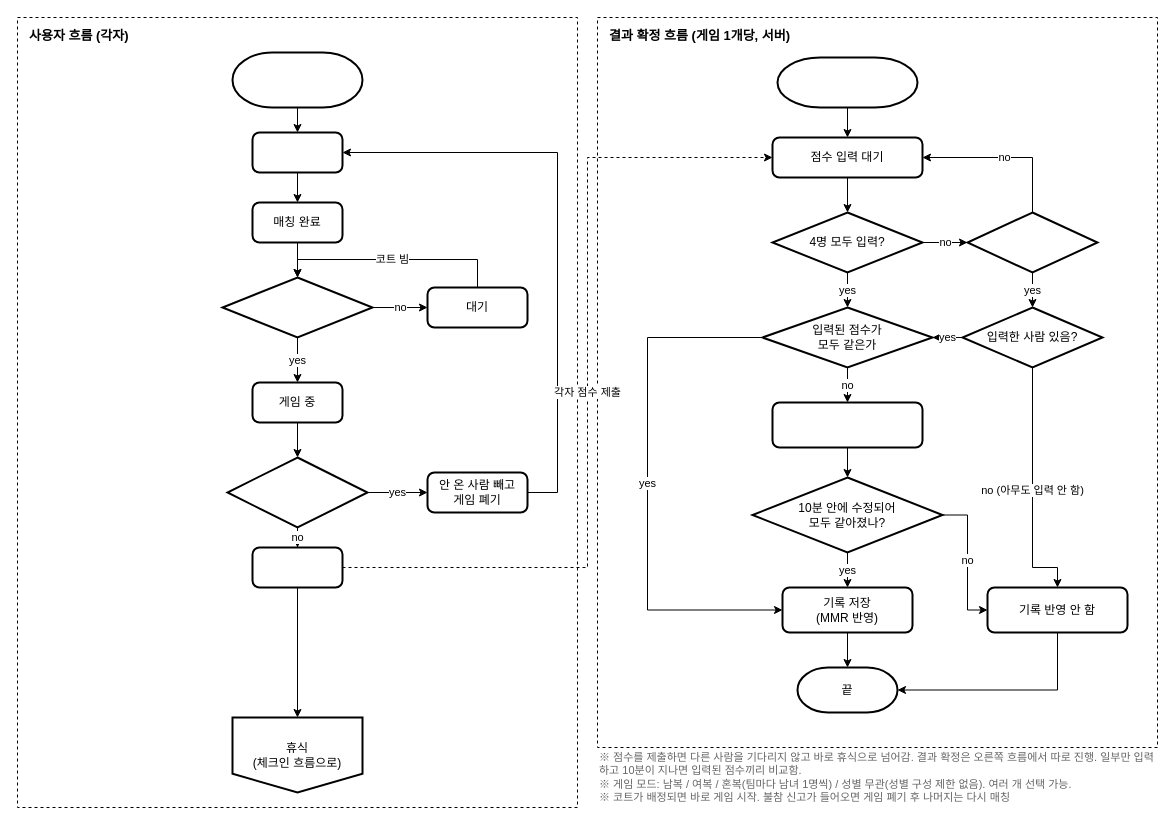
The diagram is 1175 pixels wide and 825 high, and some of its shapes have lost their labels. The shapes that lost their labels are listed below. From the top down, each one's centre as x and y in pixels, then its label:
At [297,79]: "매칭 시작 (게임 모드 선택)".
At [847,82]: "게임 종료 (결과 확정 시작)".
At [297,152]: "매칭 중".
At [1032,242]: "첫 입력 후 10분 지남?".
At [297,307]: "빈 코트가 있나?".
At [847,424]: "점수 입력자에게 불일치 알림".
At [297,492]: "불참 신고 있음? (시작 3~10분)".
At [297,567]: "점수 입력".
